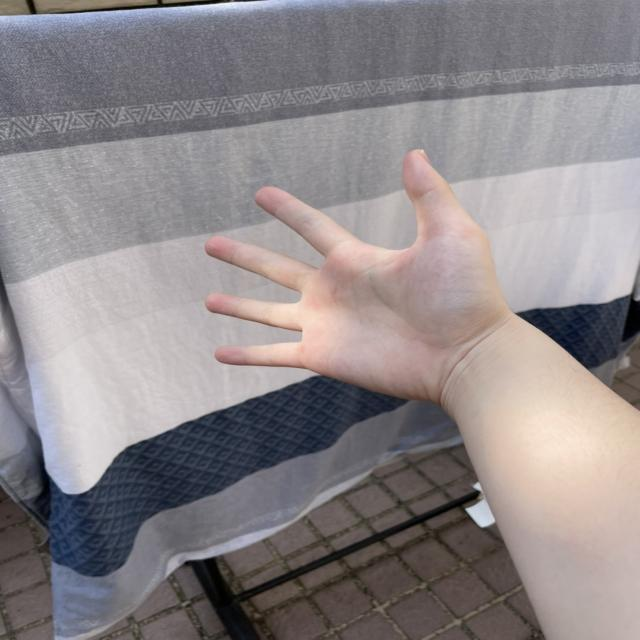hand: (185, 146, 539, 420)
